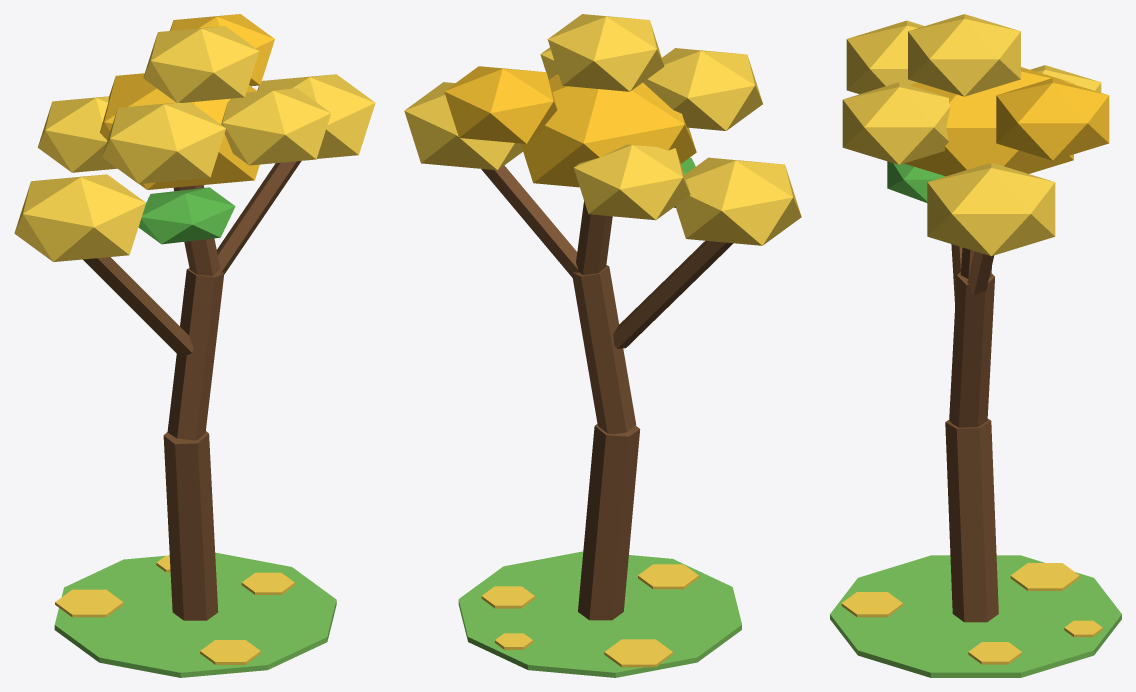
The model's file is kit-cidade-ipe-amarelo.glb.
The picture shows the model from 3 angles, left to right: view 1: azimuth 30°, elevation 25°; view 2: azimuth 150°, elevation 25°; view 3: azimuth 270°, elevation 25°; orthographic projection.
Parts seen in each view (by area): view 1: corpo; view 2: corpo; view 3: corpo.
Part boxes in pixels (box(x1,y1,x2,y2)): corpo: box(14, 14, 375, 677); corpo: box(404, 14, 801, 677); corpo: box(830, 14, 1121, 677).
Bounding box in the file's own units: 1.1 × 1.73 × 0.7601.
